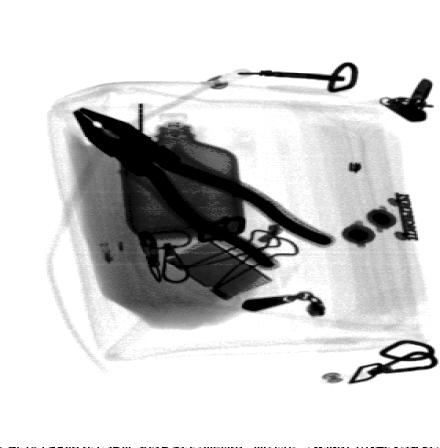Pliers: (69, 105, 337, 271)
